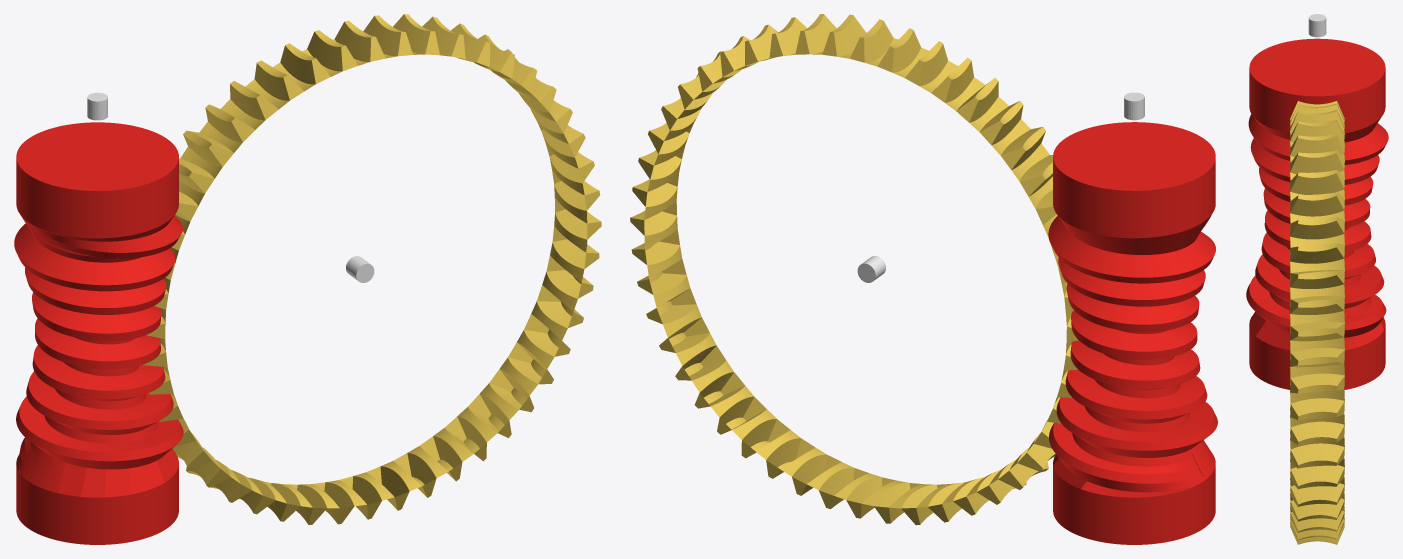
The model's file is bevel_gear.glb.
3 renders of one model, left to right at view 1: azimuth 30°, elevation 25°; view 2: azimuth 150°, elevation 25°; view 3: azimuth 270°, elevation 25°, orthographic. The views are drawn at different scales.
Parts seen in each view (by area): view 1: XYZ Function.005, XYZ Function.001; view 2: XYZ Function.005, XYZ Function.001; view 3: XYZ Function.005, XYZ Function.001, Cylinder.
Boxes of the visible parts, box(x1,y1,x2,y2) form: XYZ Function.005: box(14, 122, 183, 544); XYZ Function.001: box(143, 14, 601, 524); XYZ Function.005: box(1048, 122, 1217, 544); XYZ Function.001: box(630, 14, 1078, 525); XYZ Function.005: box(1246, 38, 1388, 389); XYZ Function.001: box(1290, 101, 1344, 544); Cylinder: box(1308, 14, 1326, 37).
Size of the model in its own units: 62.3 by 50.8 by 16.28.
